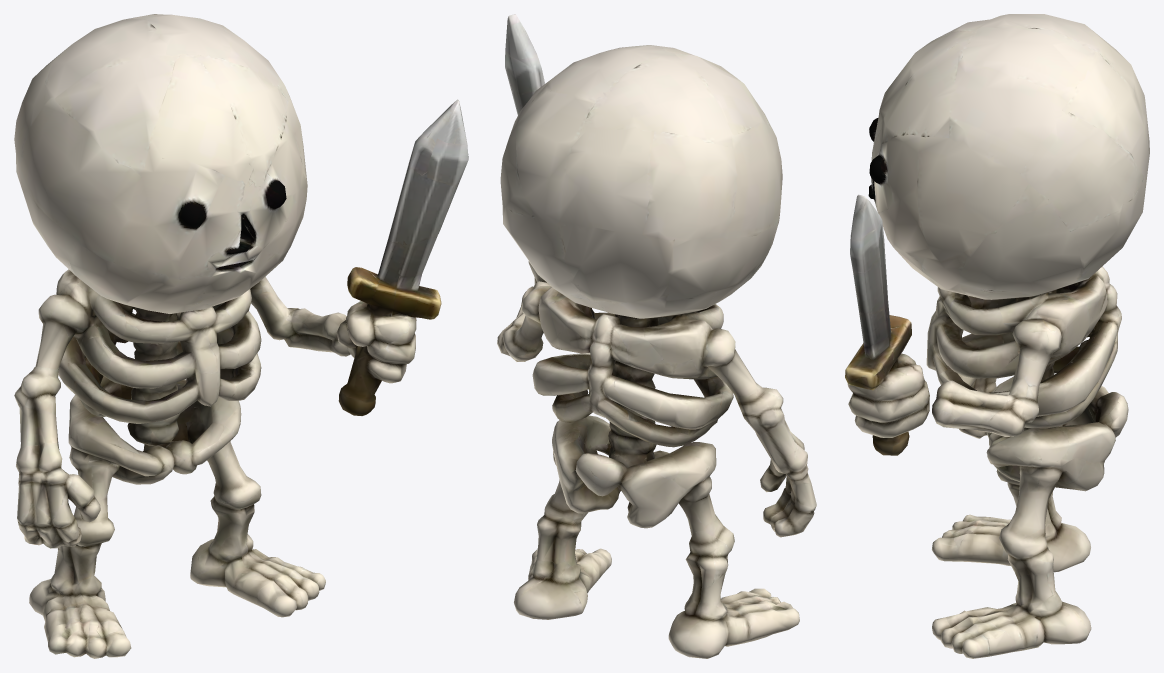
File: Esqueleto.glb
3 views of the same model, side by side, from view 1: azimuth 30°, elevation 25°; view 2: azimuth 150°, elevation 25°; view 3: azimuth 270°, elevation 25° (orthographic). The views are drawn at different scales.
Size of the model in its own units: 1.32 by 1.9 by 0.9184.
1 material, 1 textured.
